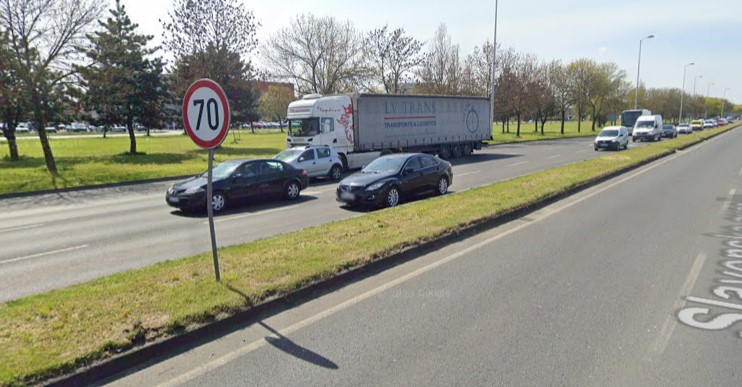Ograničenje brzine 70: (182, 77, 230, 149)
